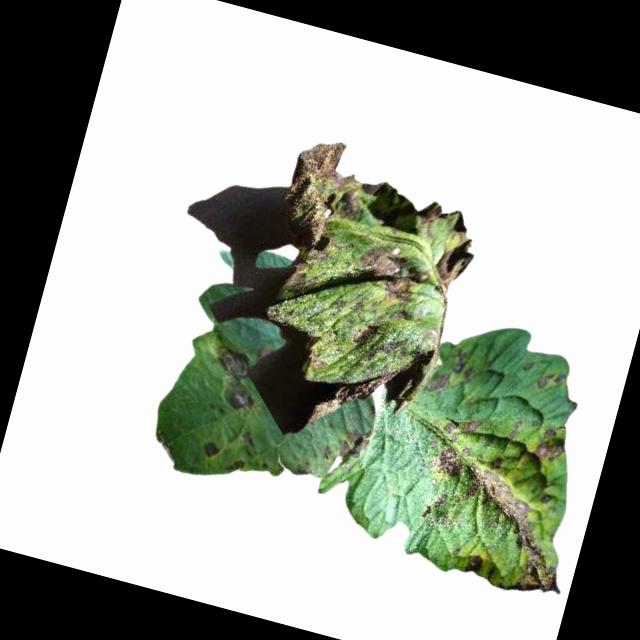Early_blight: (403, 441, 582, 601), (263, 133, 377, 303), (313, 353, 400, 441), (347, 239, 431, 308), (203, 345, 262, 412), (429, 230, 481, 291), (427, 346, 473, 401), (532, 423, 571, 465), (412, 195, 446, 242), (439, 410, 482, 444), (352, 318, 381, 351), (379, 334, 406, 361), (199, 439, 220, 460)
